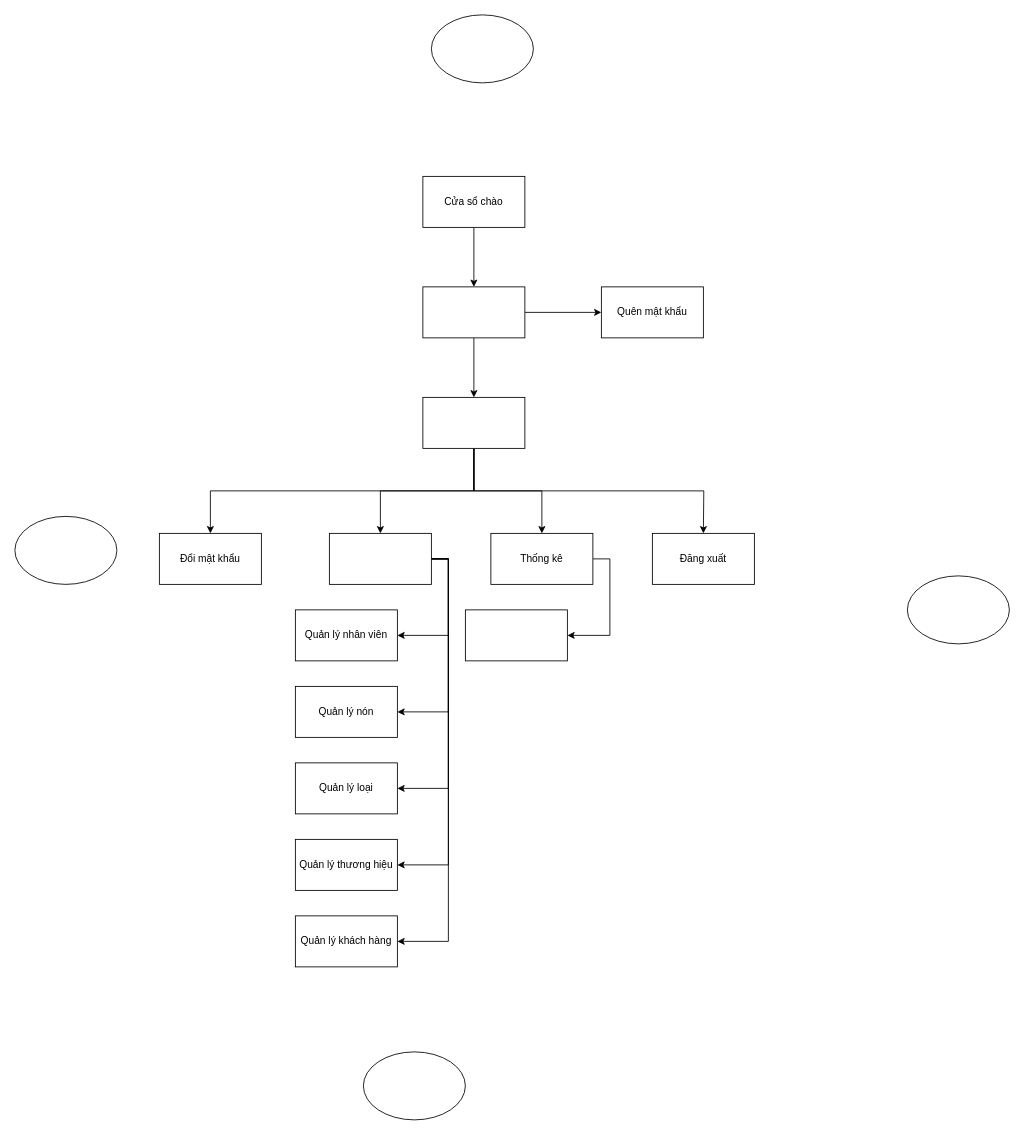
Some shapes in this 1024 by 1135 pixel diagram are drawn without their labels. Here are the shapes that lost their labels. From the top down, the centre of each, then its label:
At point (473, 312): "Đăng nhập".
At point (473, 422): "Cửa sổ chính".
At point (380, 558): "Quản lý".
At point (516, 635): "Doanh thu".
